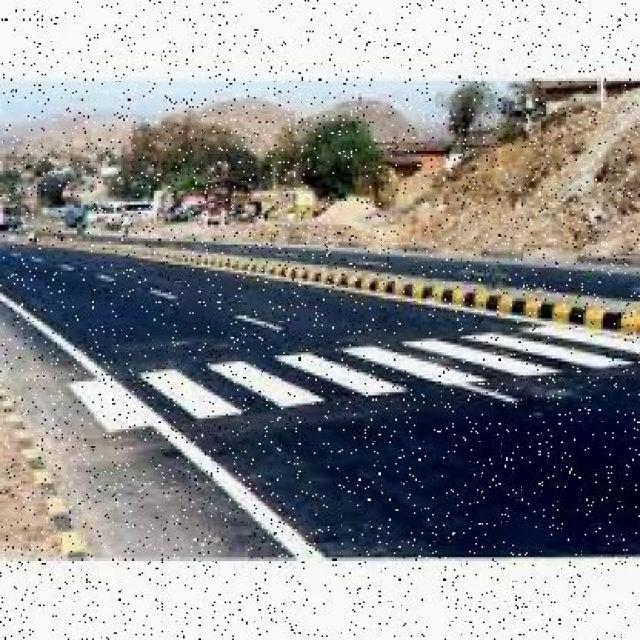crosswalk: (72, 324, 635, 441)
